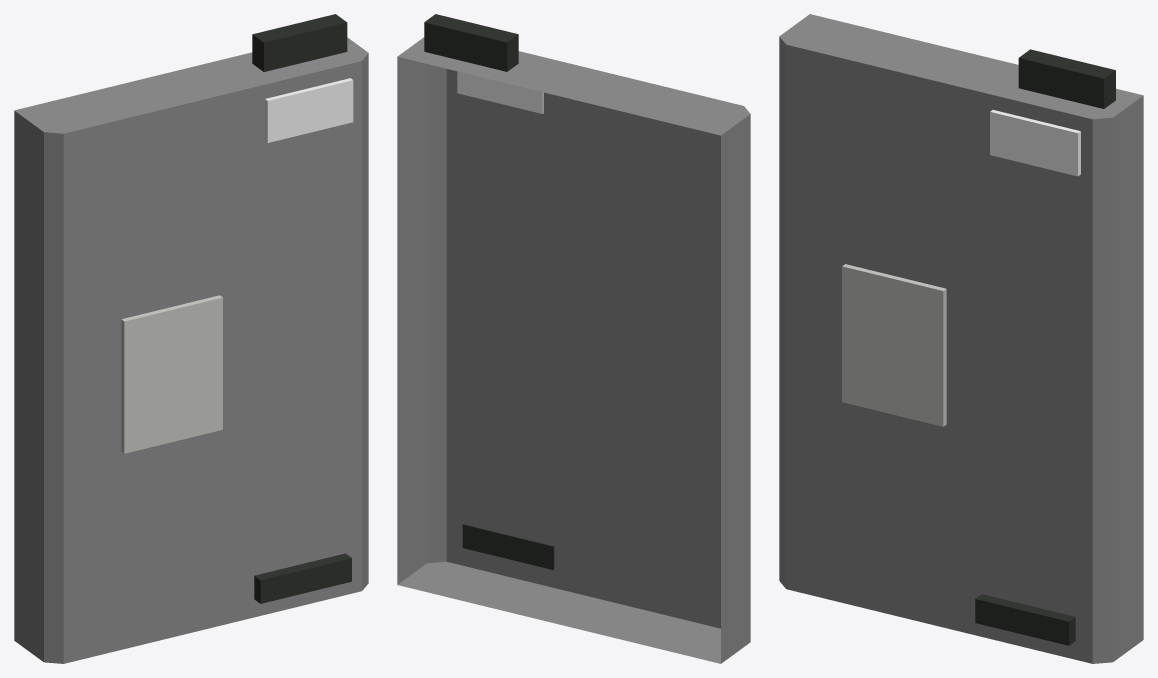
Rendered from SM_electricity_panel_01.fbx.
3 views of the same model, side by side, from view 1: azimuth 30°, elevation 25°; view 2: azimuth 150°, elevation 25°; view 3: azimuth 330°, elevation 25° (orthographic). The views are drawn at different scales.
Parts seen in each view (by area): view 1: electricity_panel_01; view 2: electricity_panel_01; view 3: electricity_panel_01.
Part boxes in pixels (<box>): electricity_panel_01: <box>14,14,368,663</box>; electricity_panel_01: <box>397,14,750,663</box>; electricity_panel_01: <box>779,14,1143,663</box>.
Bounding box in the file's own units: 75.17 × 124 × 17.14.
